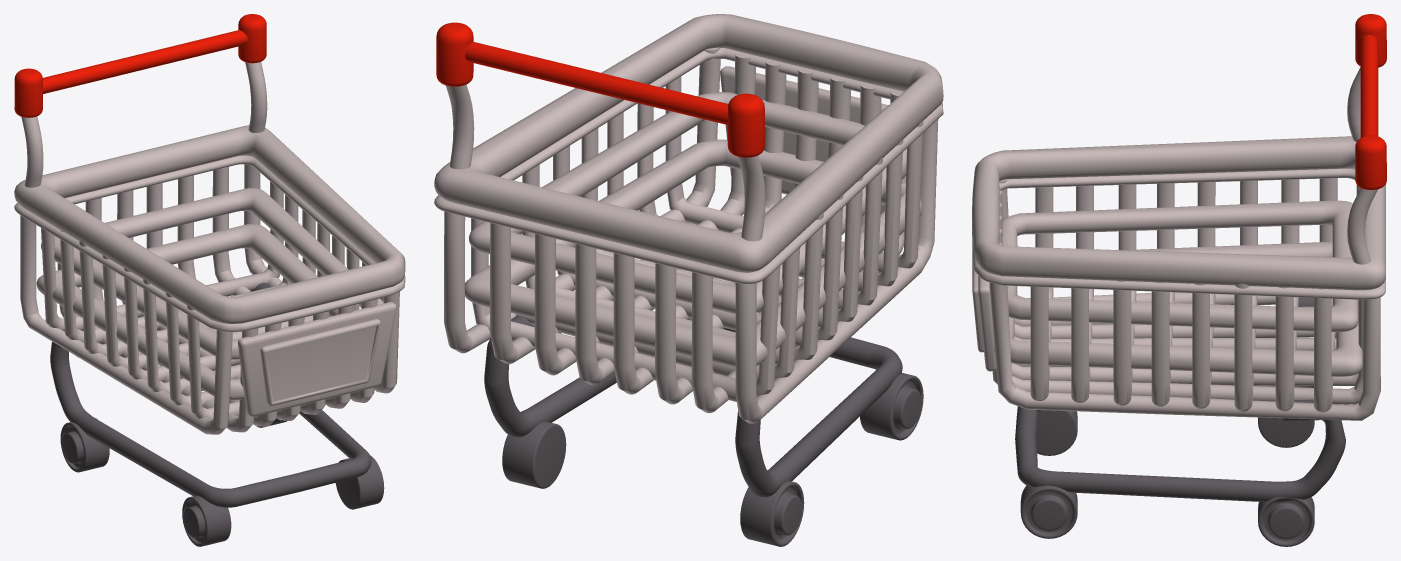
File: cart.glb
The picture shows the model from 3 angles, left to right: view 1: azimuth 30°, elevation 25°; view 2: azimuth 150°, elevation 25°; view 3: azimuth 270°, elevation 25°; orthographic projection. The views are drawn at different scales.
Parts seen in each view (by area): view 1: Cylinder.002; view 2: Cylinder.002; view 3: Cylinder.002.
Boxes of the visible parts, bbox=[...] form: Cylinder.002: bbox=[14, 14, 405, 546]; Cylinder.002: bbox=[434, 14, 943, 546]; Cylinder.002: bbox=[972, 14, 1386, 546].
Size of the model in its own units: 2.08 by 2.95 by 2.68.
